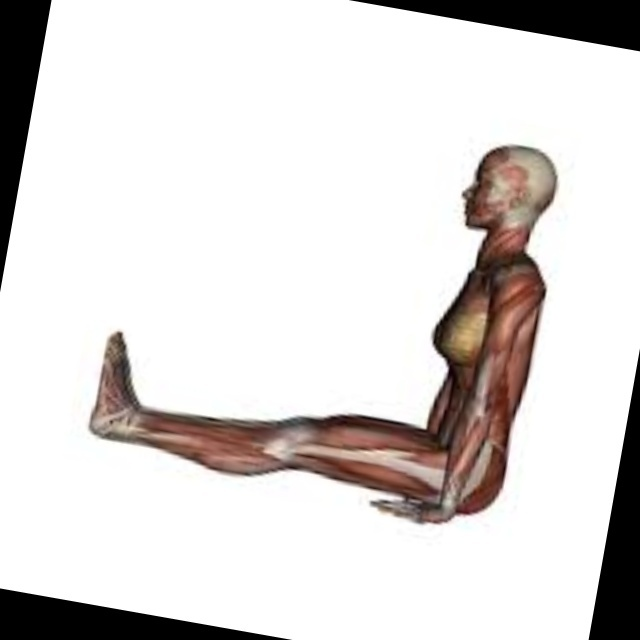Staff_Pose: (86, 145, 556, 527)
